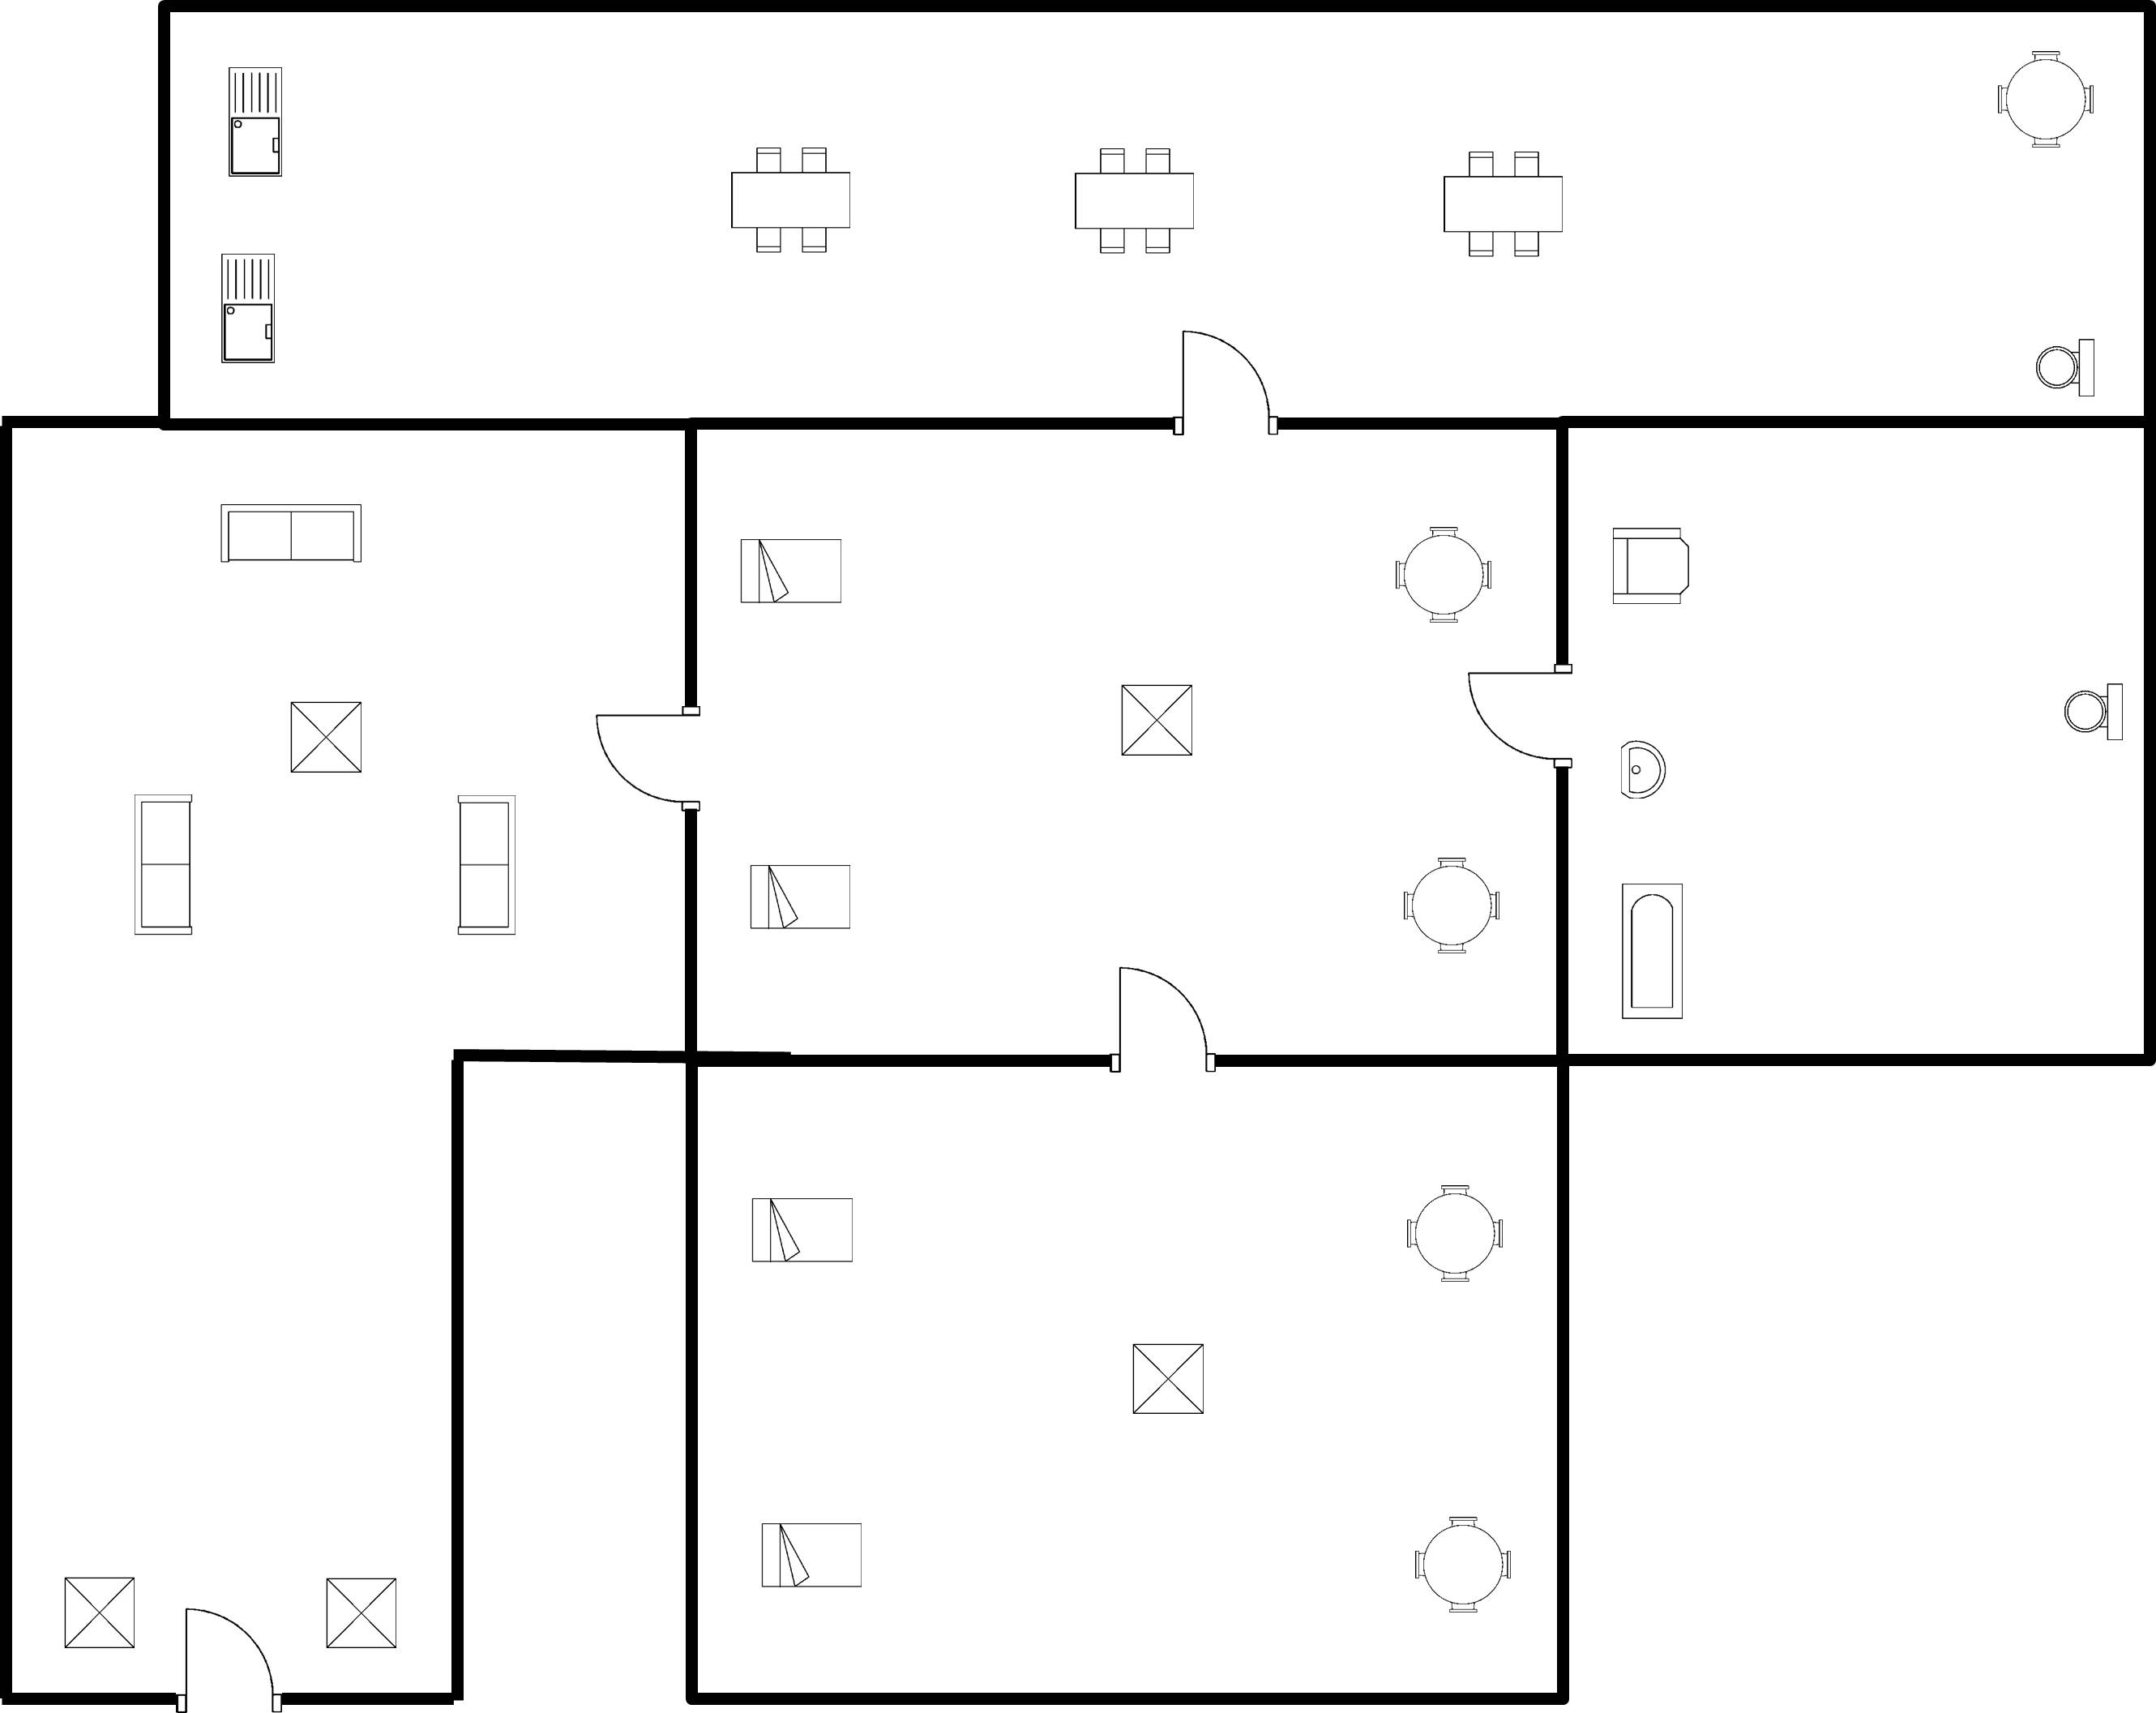armchair: (1602, 515, 1702, 621)
bed: (748, 1508, 879, 1603), (729, 529, 854, 616), (741, 854, 861, 939), (736, 1191, 868, 1270)
coffee_table: (209, 491, 373, 574), (1119, 1330, 1222, 1428), (314, 1565, 409, 1665), (282, 691, 374, 790), (1109, 675, 1208, 767), (52, 1567, 147, 1657)
dining_table: (1059, 131, 1208, 268), (1431, 139, 1585, 270), (721, 131, 864, 268)
large_sink: (2055, 664, 2134, 756), (2026, 315, 2104, 409)
large_sofa: (209, 498, 376, 579), (446, 789, 521, 948), (130, 783, 203, 945)
round_table: (1391, 1168, 1516, 1299), (1383, 515, 1512, 638), (1986, 41, 2112, 165), (1381, 846, 1514, 966), (1403, 1498, 1526, 1626)
sink: (220, 56, 295, 189), (211, 243, 284, 376)
small_sink: (1602, 733, 1675, 812)
tub: (1609, 873, 1700, 1030)
